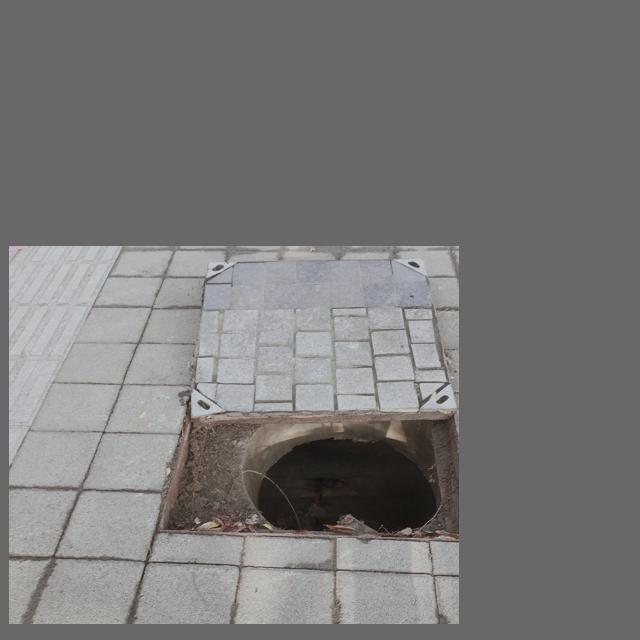uncovered: (147, 253, 451, 551)
